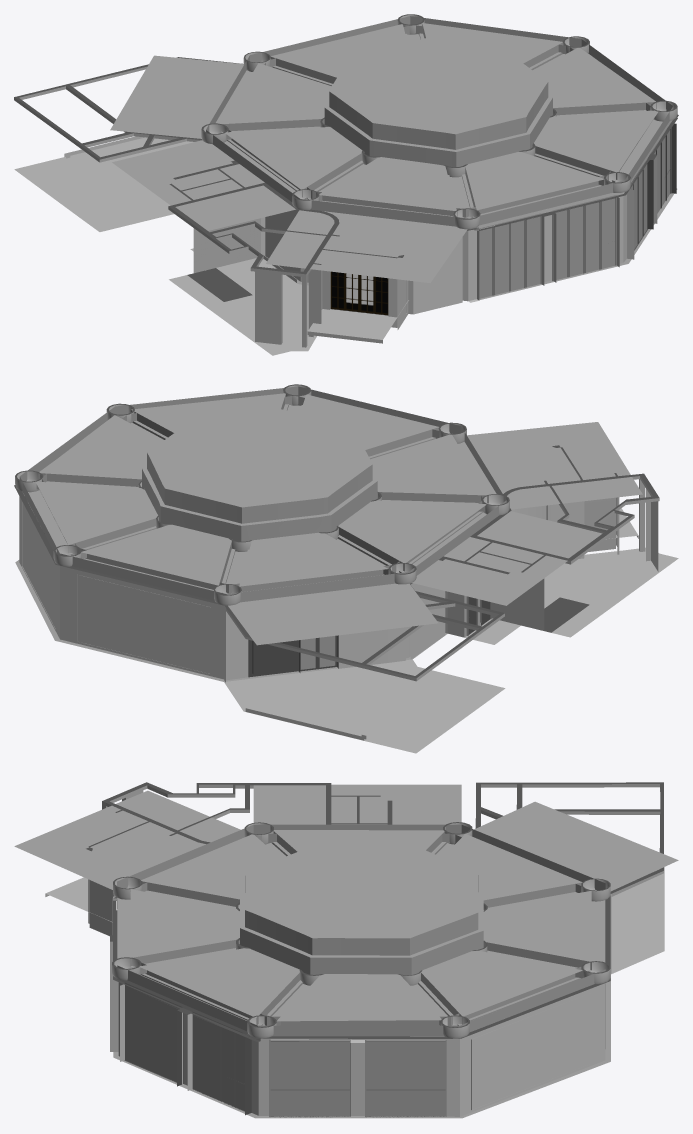
File: Arkhurst.fbx
The picture shows the model from 3 angles, top to bottom: view 1: azimuth 30°, elevation 25°; view 2: azimuth 150°, elevation 25°; view 3: azimuth 270°, elevation 25°; orthographic projection. The views are drawn at different scales.
Parts seen in each view (by area): view 1: Venue_Ceiling, Venue_Walls, ForbiddenRoom, Venue_Slab; view 2: Venue_Ceiling, ForbiddenRoom, Venue_Walls, Venue_Slab; view 3: Venue_Ceiling, Venue_Walls, ForbiddenRoom, Venue_Slab.
Part boxes in pixels (x1,y1,x2,y2): Venue_Ceiling: (110,16,673,282); Venue_Walls: (64,14,678,329); ForbiddenRoom: (14,57,397,355); Venue_Slab: (264,188,677,300); Venue_Ceiling: (19,386,642,645); ForbiddenRoom: (224,473,678,753); Venue_Walls: (14,384,584,740); Venue_Slab: (15,560,447,681); Venue_Ceiling: (14,784,678,1036); Venue_Walls: (86,819,611,1117); ForbiddenRoom: (45,782,664,974); Venue_Slab: (113,974,610,1118).
Bounding box in the file's own units: 2830 × 641 × 3085.
